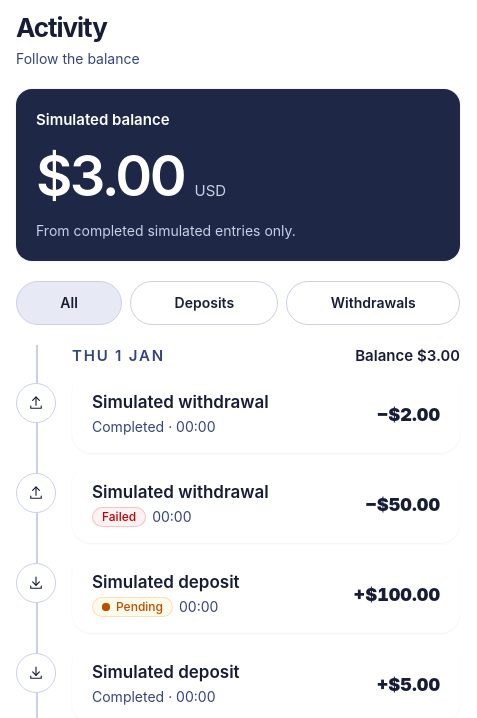
Test: ActivityPage synthetic evidence grammar › derives per-event results from completed chronological records before filtering
Expected: the number of headings with test id "activity-day-header" is 1, top-left (72, 345), bottom-right (165, 367)
Expected: the heading with test id "activity-day-header" reads "Thu 1 Jan", top-left (72, 346), bottom-right (165, 365)
Click the 1st heading with test id "activity-row-withdraw": (266,414) top-left (92, 392), bottom-right (440, 435)
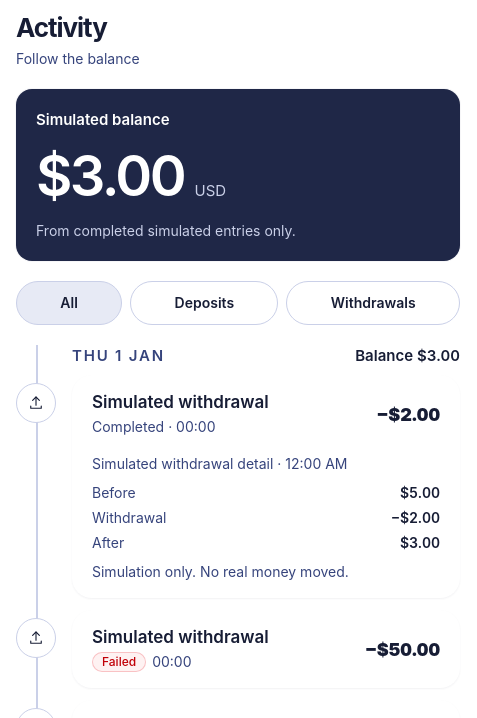
Expected: the text "Before" is shown, top-left (92, 482), bottom-right (136, 503)
Expected: the text "$5.00" is shown, top-left (400, 482), bottom-right (440, 503)
Expected: the text "After" is shown, top-left (92, 532), bottom-right (124, 553)
Click the button with test id "filter-withdrawals": (373,303) top-left (286, 281), bottom-right (460, 325)
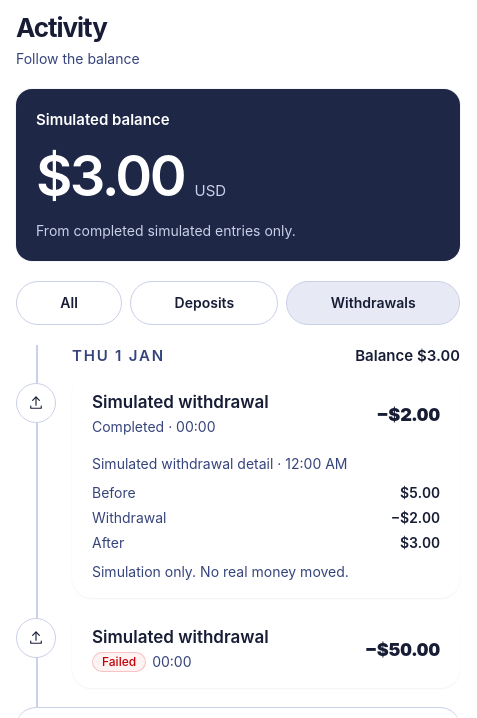
Expected: the text with test id "activity-day-balance" reads "Balance $3.00", top-left (355, 345), bottom-right (460, 367)
Expected: no headings with test id "activity-row-deposit" are shown
